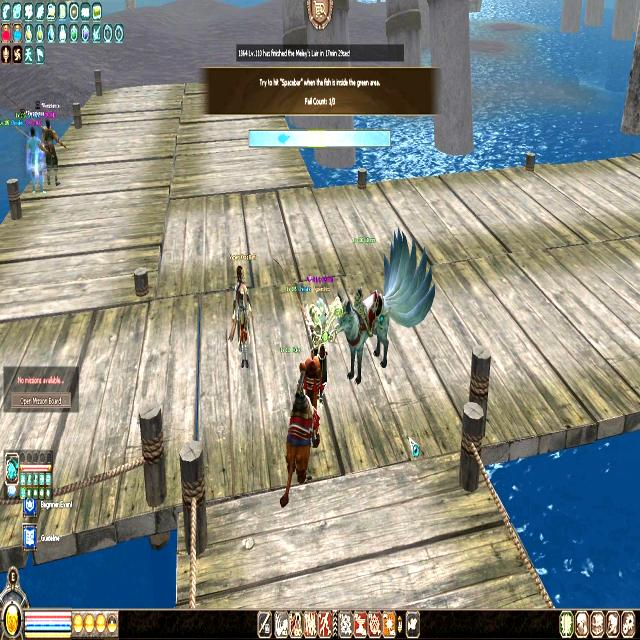fishes: (278, 132, 290, 144)
